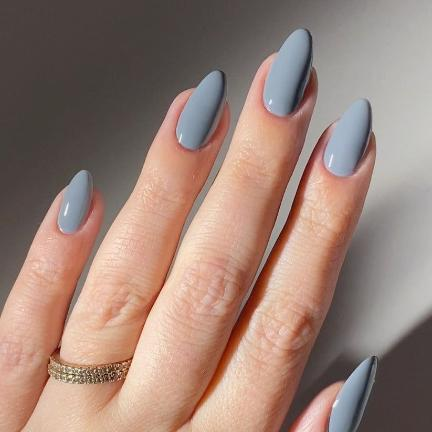Nail: (262, 28, 314, 117), (176, 70, 228, 151), (323, 98, 372, 178), (328, 356, 378, 431), (57, 169, 93, 234)
